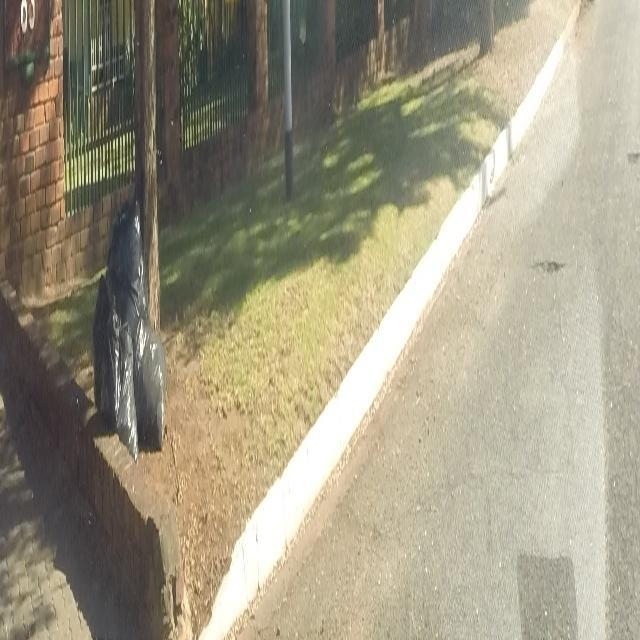pothole: (531, 250, 567, 284)
